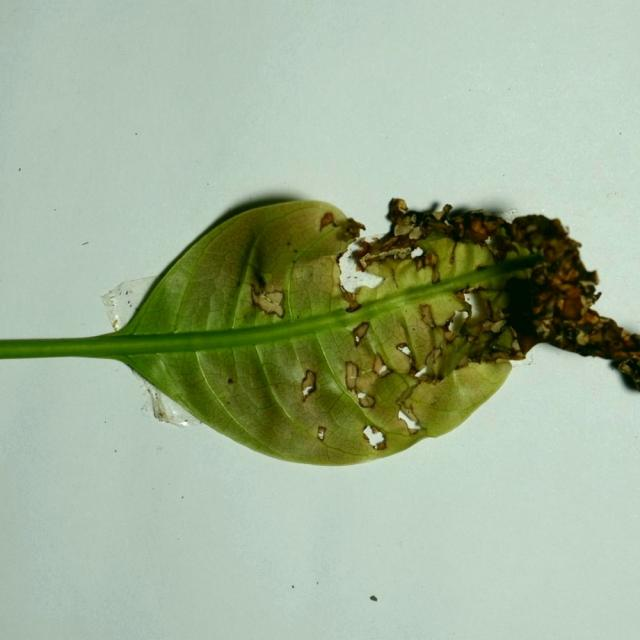Anthracnose: (566, 314, 635, 366), (457, 298, 512, 358), (341, 358, 390, 410), (451, 210, 501, 244), (371, 229, 422, 258), (249, 282, 286, 318), (488, 234, 521, 261), (396, 401, 424, 432), (442, 311, 467, 343), (556, 254, 583, 279), (558, 294, 583, 321), (351, 240, 373, 269), (146, 388, 165, 420), (395, 381, 418, 407), (341, 287, 362, 313), (388, 197, 409, 223), (301, 369, 317, 401), (363, 426, 385, 449), (351, 321, 370, 346), (548, 217, 570, 238), (419, 303, 436, 330), (425, 219, 453, 235), (454, 296, 472, 320), (345, 361, 359, 389), (372, 354, 389, 377), (429, 256, 441, 284), (432, 206, 451, 223), (582, 309, 600, 326), (404, 354, 420, 373), (396, 342, 413, 359), (425, 349, 439, 369), (320, 212, 335, 230), (563, 327, 579, 343), (483, 296, 493, 320), (348, 219, 365, 233), (408, 226, 423, 241), (576, 330, 590, 346), (416, 372, 433, 384), (449, 243, 458, 265), (456, 355, 470, 369), (543, 245, 557, 259), (536, 323, 549, 337), (533, 271, 546, 285), (455, 290, 467, 302), (591, 291, 602, 304), (317, 426, 326, 441), (526, 224, 537, 233), (112, 319, 119, 329), (227, 377, 234, 385)
Mango: (0, 199, 639, 468)
